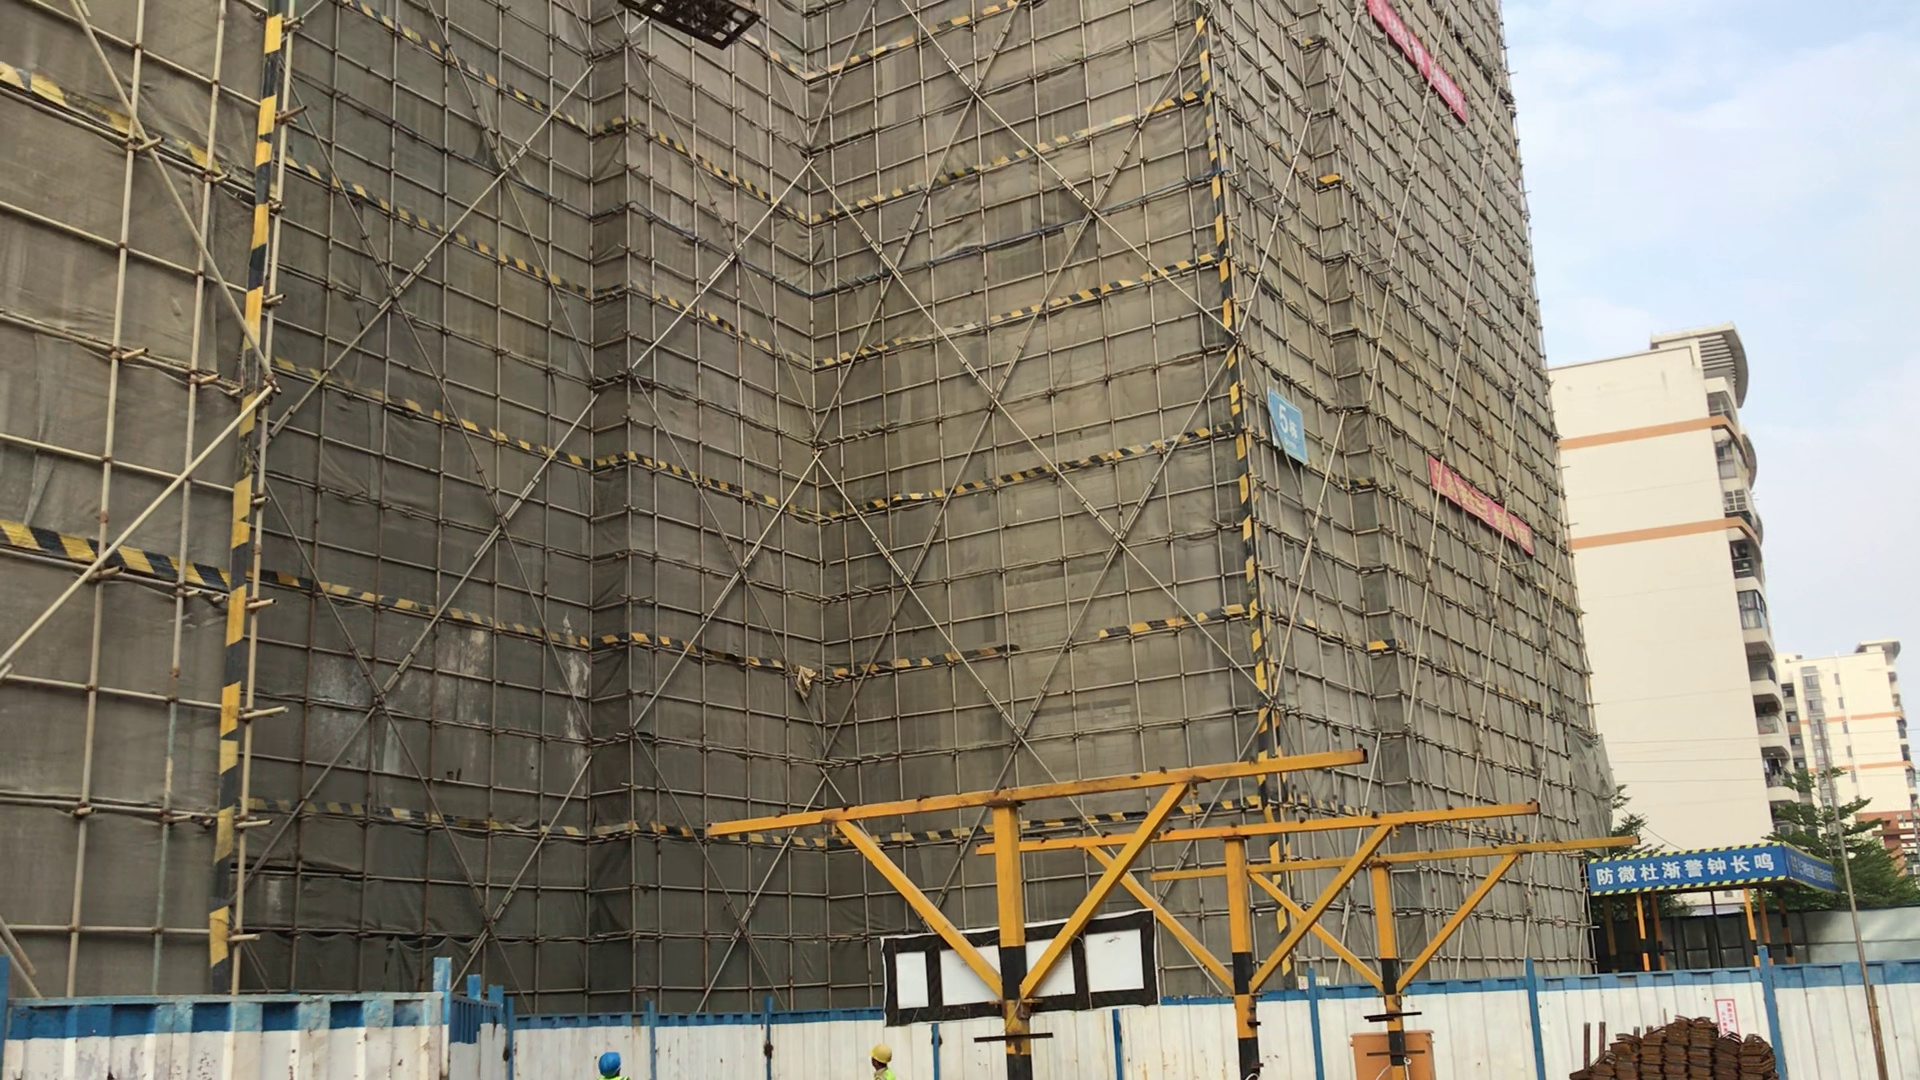ebox: (1402, 1026, 1440, 1080), (1348, 1030, 1385, 1078)
helmet: (598, 1050, 623, 1076), (871, 1043, 895, 1066)
person: (868, 1044, 900, 1080)
slogan: (1363, 1, 1460, 126), (1426, 460, 1536, 558), (1585, 853, 1777, 882), (1265, 389, 1308, 461), (1782, 846, 1841, 898)
